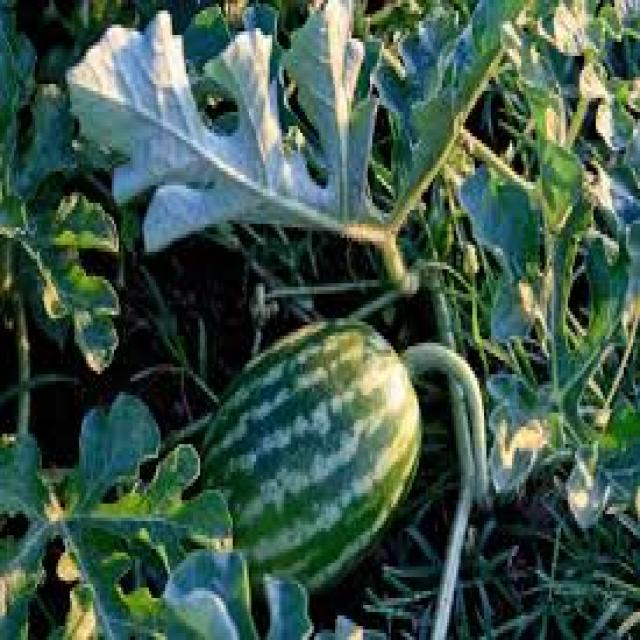watermelon: (196, 314, 421, 594)
